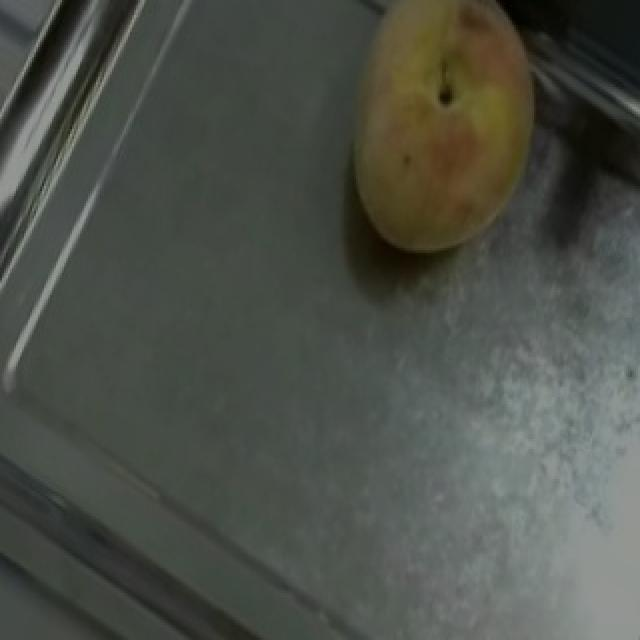Fruit: (302, 0, 564, 288)
